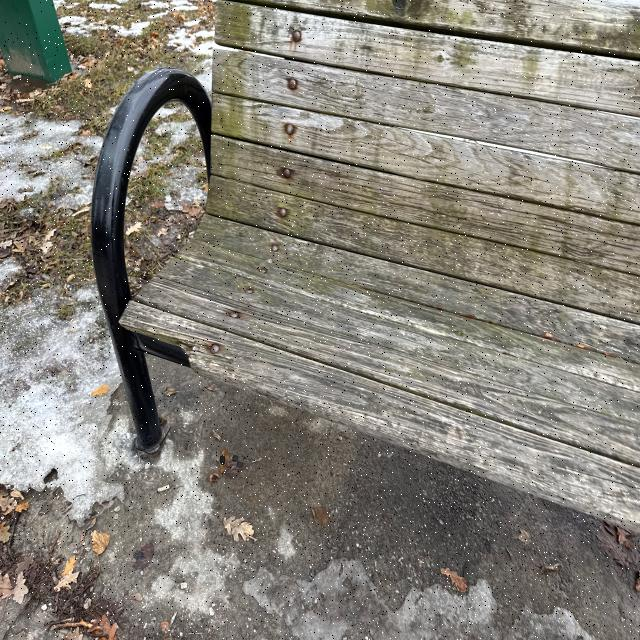Bench: (91, 10, 640, 470)
